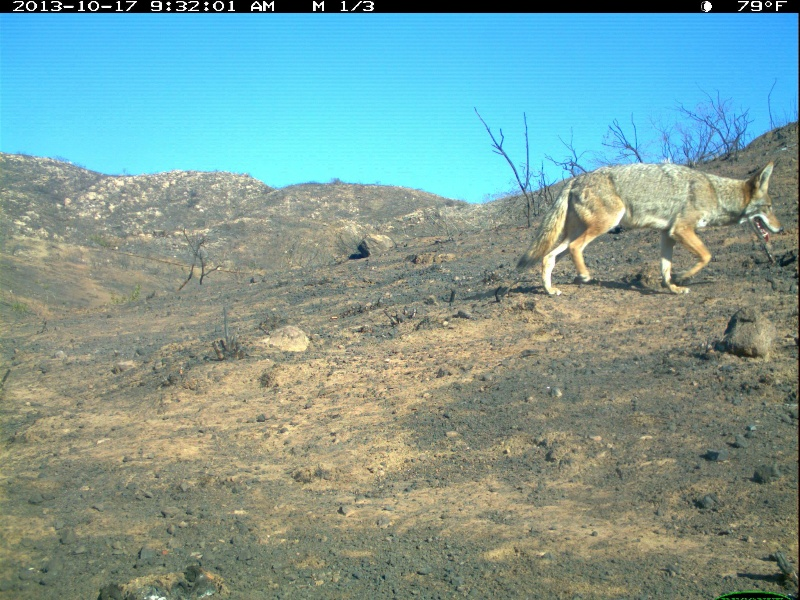coyote: (513, 156, 782, 300)
